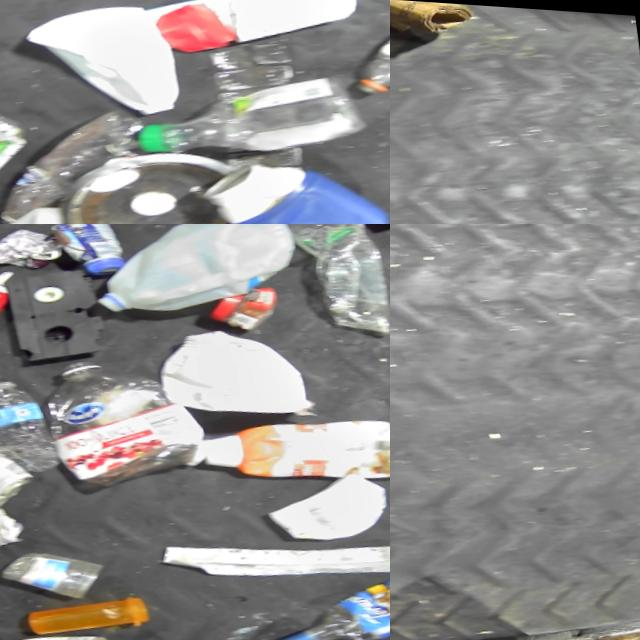can: (195, 277, 289, 338), (0, 224, 70, 277), (0, 616, 128, 640), (0, 480, 31, 556), (0, 268, 25, 357)
milk_jug: (13, 0, 192, 127), (87, 224, 306, 324), (0, 192, 126, 224)
non_white_jug: (199, 136, 390, 224)
plastic_bottle: (45, 341, 218, 497), (0, 97, 164, 221), (0, 364, 67, 481), (0, 91, 37, 224), (341, 8, 390, 100)
